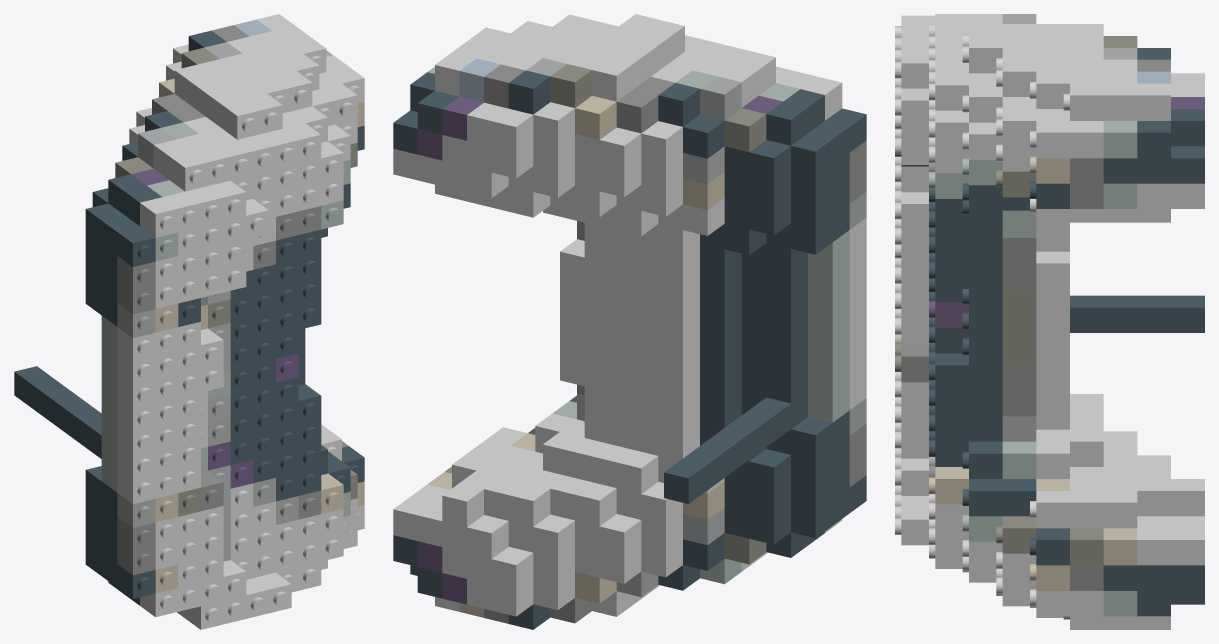
File: full.glb
The picture shows the model from 3 angles, left to right: view 1: azimuth 30°, elevation 25°; view 2: azimuth 150°, elevation 25°; view 3: azimuth 270°, elevation 25°; orthographic projection. The views are drawn at different scales.
Parts seen in each view (by area): view 1: world; view 2: world; view 3: world.
Part boxes in pixels (box(x1,y1,x2,y2)): world: box(14, 14, 364, 629); world: box(393, 14, 866, 629); world: box(895, 14, 1204, 629).
Size of the model in its own units: 104 by 168 by 88.2.
